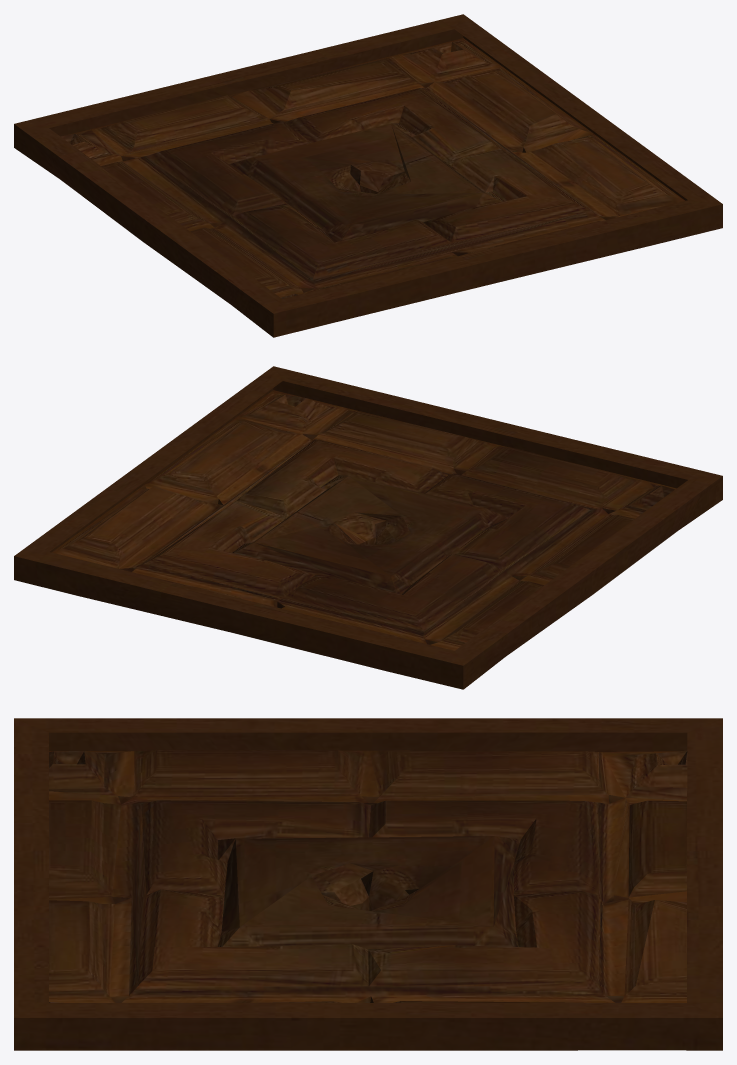
Rendered from ceiling-coffered.lod1.glb.
3 views of the same model, one above another, from view 1: azimuth 30°, elevation 25°; view 2: azimuth 150°, elevation 25°; view 3: azimuth 270°, elevation 25° (orthographic). The views are drawn at different scales.
Parts seen in each view (by area): view 1: ceiling-coffered; view 2: ceiling-coffered; view 3: ceiling-coffered.
Boxes of the visible parts, <box> form: ceiling-coffered: <box>14,14,722,337</box>; ceiling-coffered: <box>14,366,722,689</box>; ceiling-coffered: <box>14,718,722,1050</box>.
Size of the model in its own units: 4 by 0.7565 by 4.
1 material, 1 textured.
